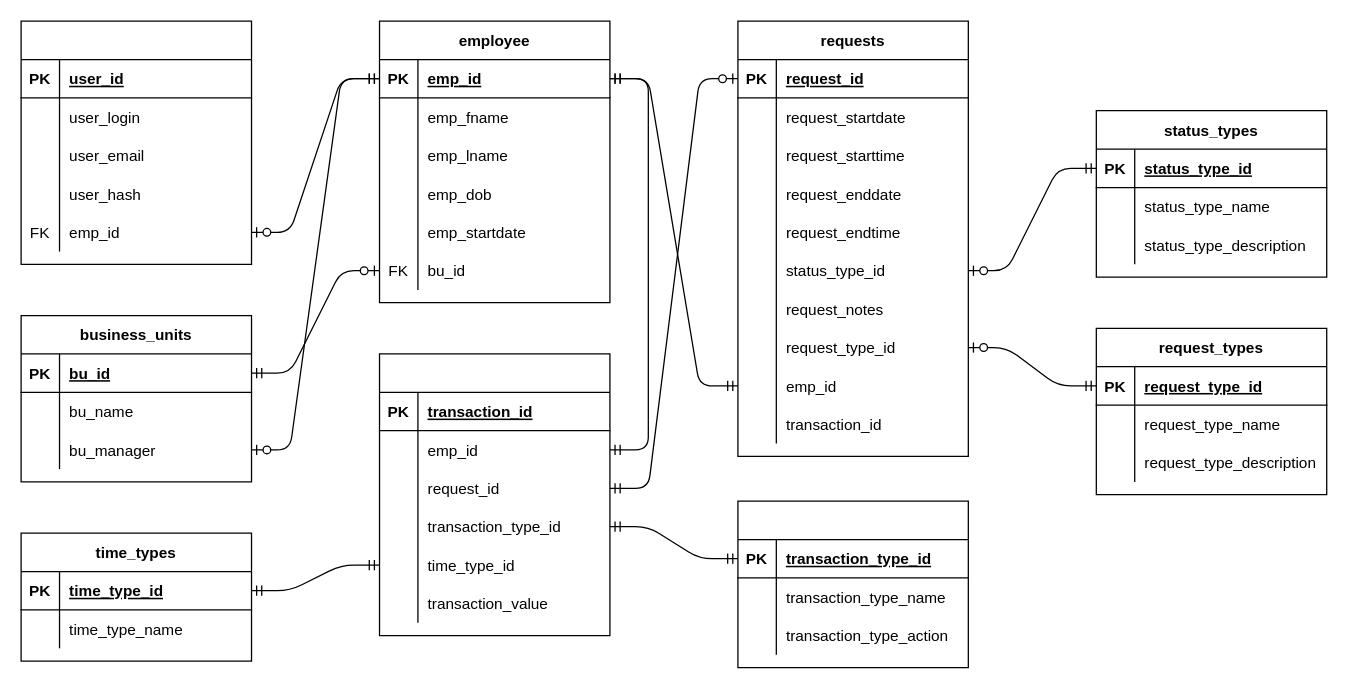
Some shapes in this 1348 by 689 pixel diagram are drawn without their labels. The shapes that lost their labels are listed below. From the top down, each one's box as (x1, y1, x2, y2) in pixels, then its label:
(20, 20, 252, 264): users
(378, 353, 610, 636): transactions
(737, 500, 968, 668): transaction_types
